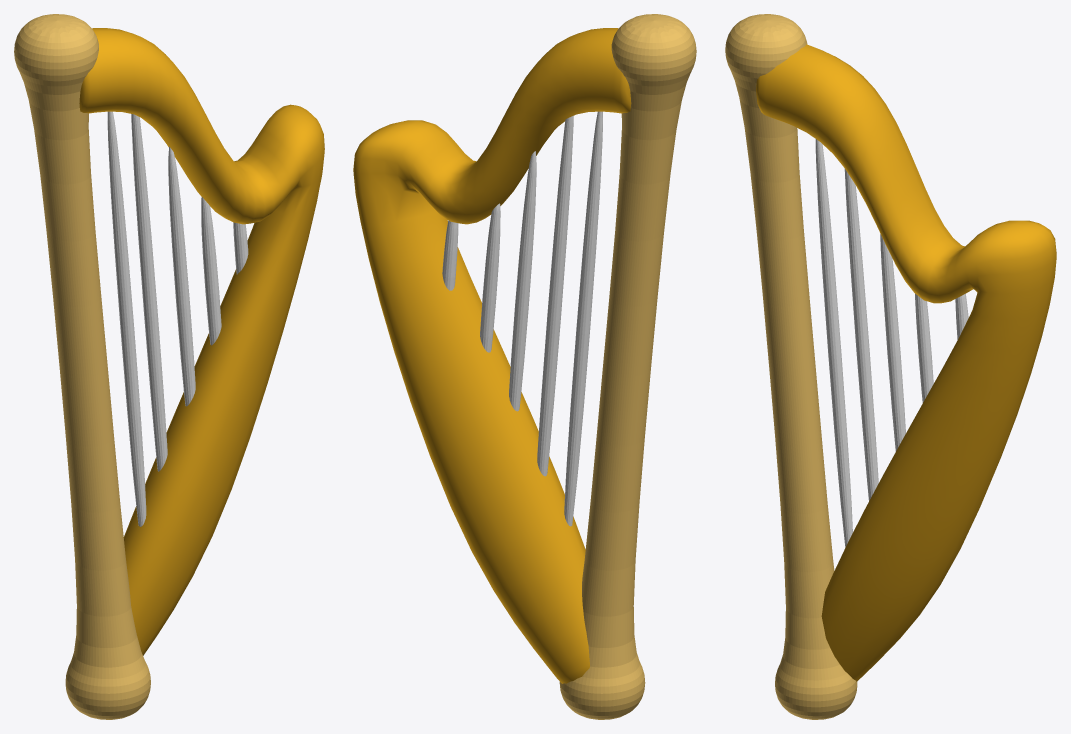
3 renders of one model, left to right at view 1: azimuth 30°, elevation 25°; view 2: azimuth 150°, elevation 25°; view 3: azimuth 330°, elevation 25°, orthographic. The views are drawn at different scales.
Parts seen in each view (by area): view 1: Cube; view 2: Cube; view 3: Cube.
Part boxes in pixels (<box>): Cube: <box>14,14,324,719</box>; Cube: <box>353,14,696,719</box>; Cube: <box>725,14,1056,719</box>.
Size of the model in its own units: 820 by 1761 by 236.
